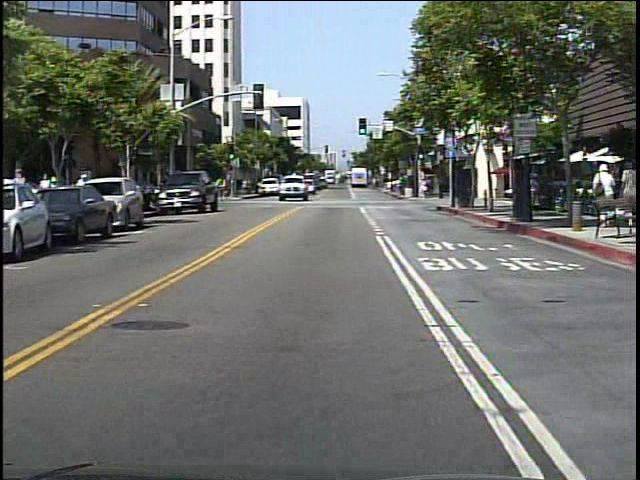person: (593, 158, 624, 226), (218, 175, 230, 203), (419, 177, 430, 200)
